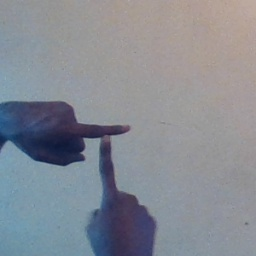T: (59, 104, 151, 218)
